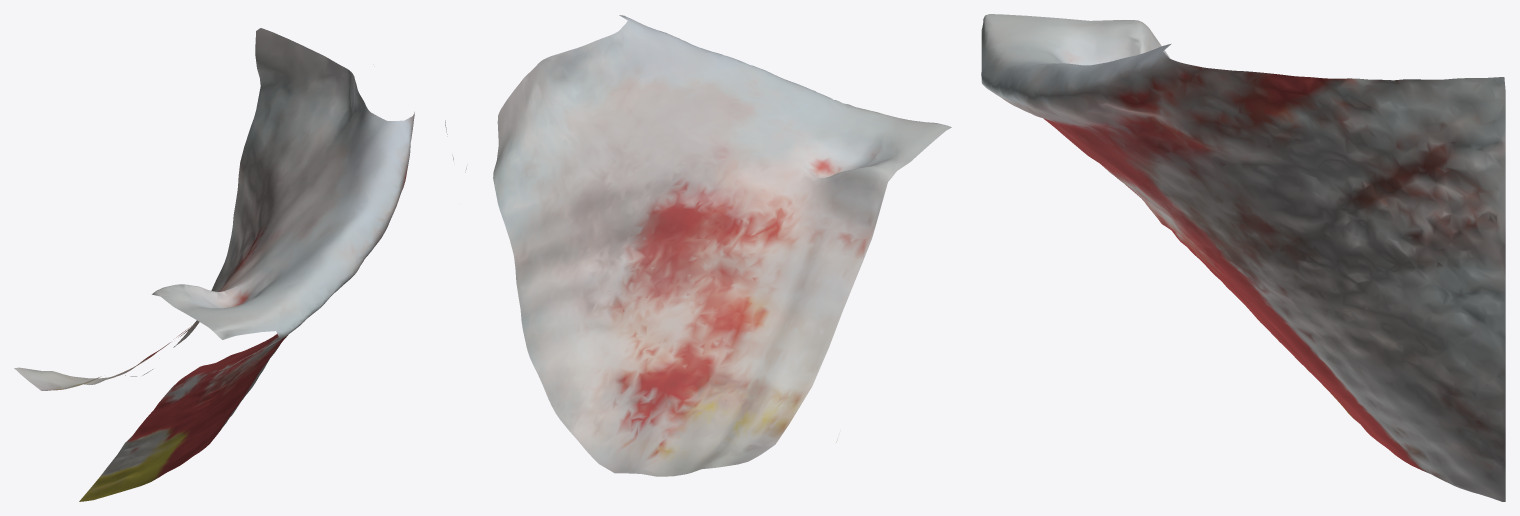
The picture shows the model from 3 angles, left to right: view 1: azimuth 30°, elevation 25°; view 2: azimuth 150°, elevation 25°; view 3: azimuth 270°, elevation 25°; orthographic projection. The views are drawn at different scales.
Parts seen in each view (by area): view 1: geometry_0; view 2: geometry_0; view 3: geometry_0.
Boxes of the visible parts, left/top/right/bottom form: geometry_0: left=14, top=28, right=414, bottom=501; geometry_0: left=445, top=15, right=951, bottom=476; geometry_0: left=981, top=14, right=1505, bottom=501.
Bounding box in the file's own units: 1.72 × 2 × 2.
